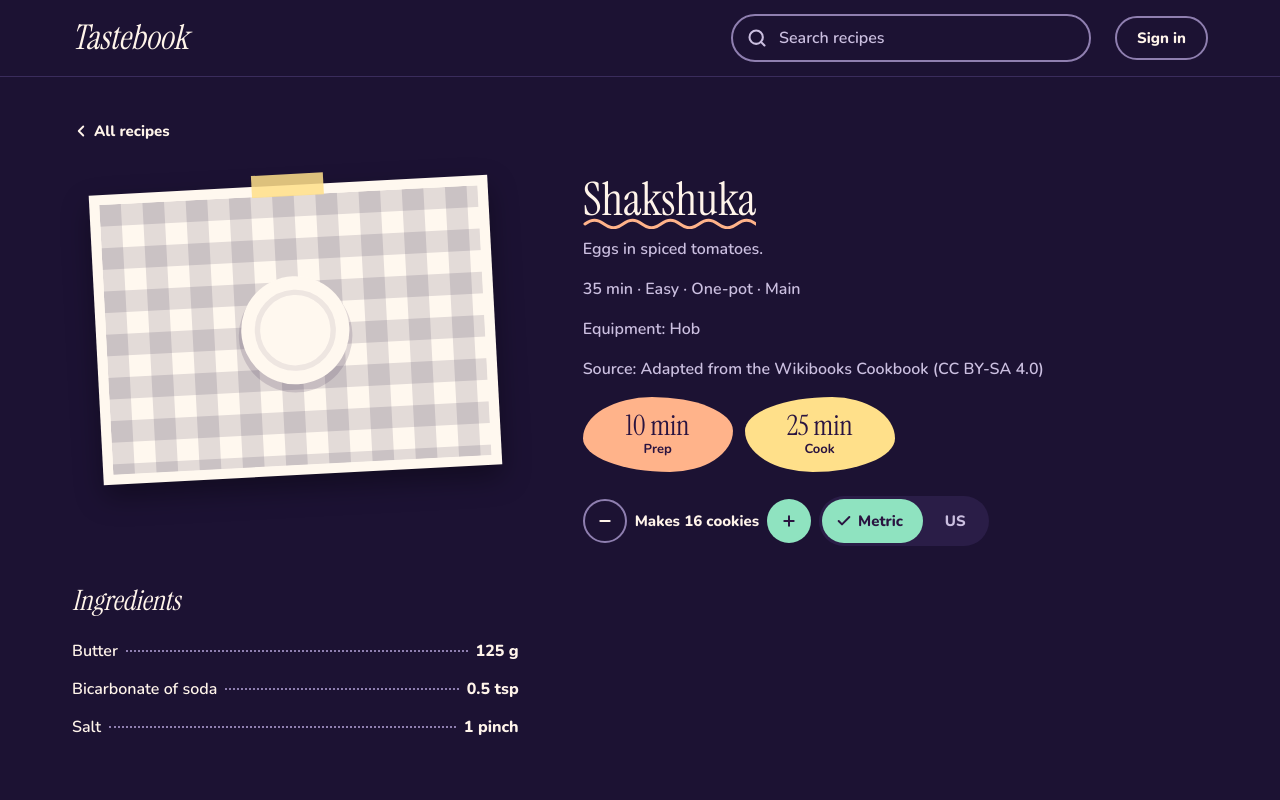
Scenario: RecipePage › scales the amounts by the yield for a recipe that makes a number of something
Check: the text "Makes 16 cookies" is shown, box [635, 511, 759, 531]
Click the button named "Make more". click: (789, 521)
box: [767, 499, 811, 543]
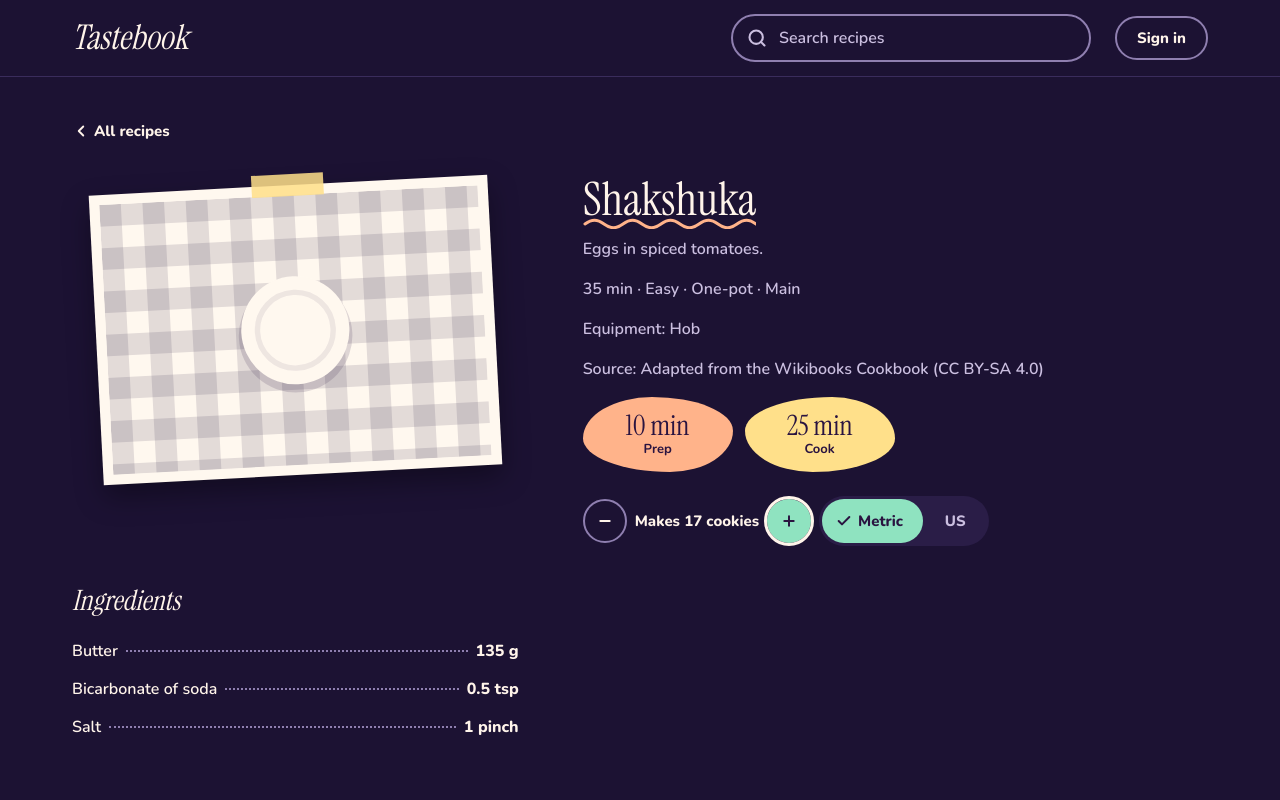
Check: the text "Makes 17 cookies" is shown, box [635, 511, 759, 531]
